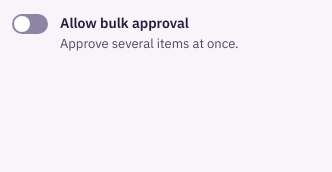
Test case: Switch › is a labelled switch that turns on and off
Click the switch labelled "Allow bulk approval". click: (30, 24)
box: [12,14,48,34]
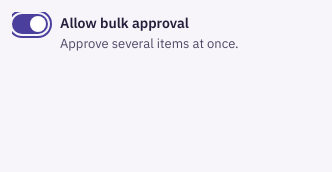
expect the switch labelled "Allow bulk approval" is checked: met, box [12,14,48,34]
Type keys " "
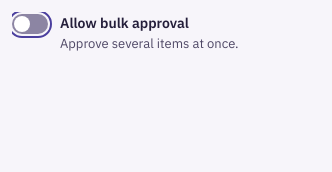
expect the switch labelled "Allow bulk approval" is not checked: met, box [12,14,48,34]
